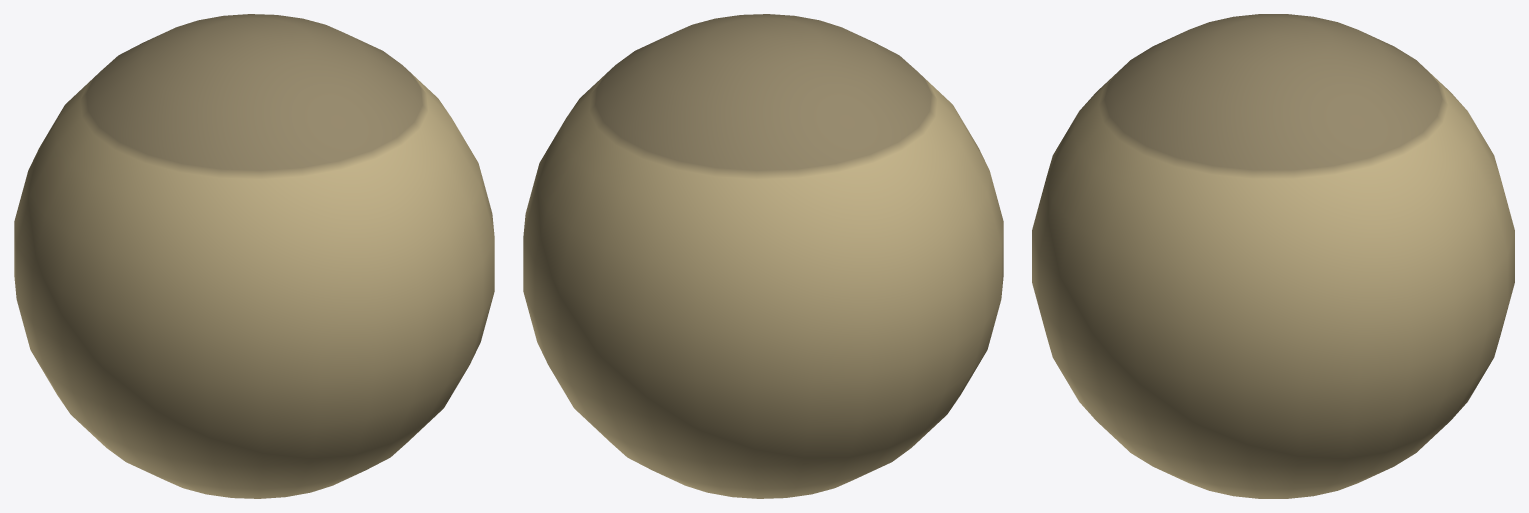
The model's file is SHOT_PUT_man.FBX.
3 views of the same model, side by side, from view 1: azimuth 30°, elevation 25°; view 2: azimuth 150°, elevation 25°; view 3: azimuth 270°, elevation 25° (orthographic).
Visible parts, largest first — view 1: SHOT_PUT_man; view 2: SHOT_PUT_man; view 3: SHOT_PUT_man.
Boxes of the visible parts, <box> form: SHOT_PUT_man: <box>14,14,494,498</box>; SHOT_PUT_man: <box>523,14,1003,498</box>; SHOT_PUT_man: <box>1032,14,1514,498</box>.
Size of the model in its own units: 1.18 by 1.2 by 1.19.
